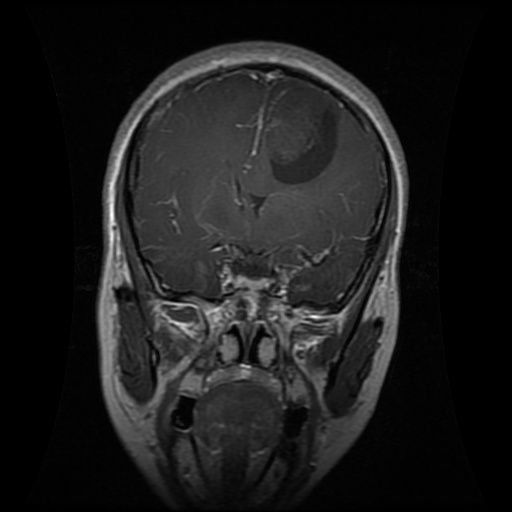glioma: (268, 101, 341, 186)
